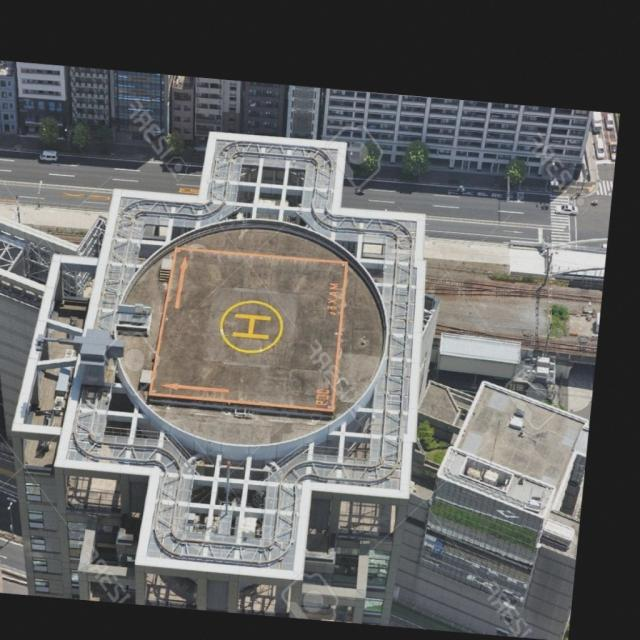helipad: (215, 297, 286, 354)
